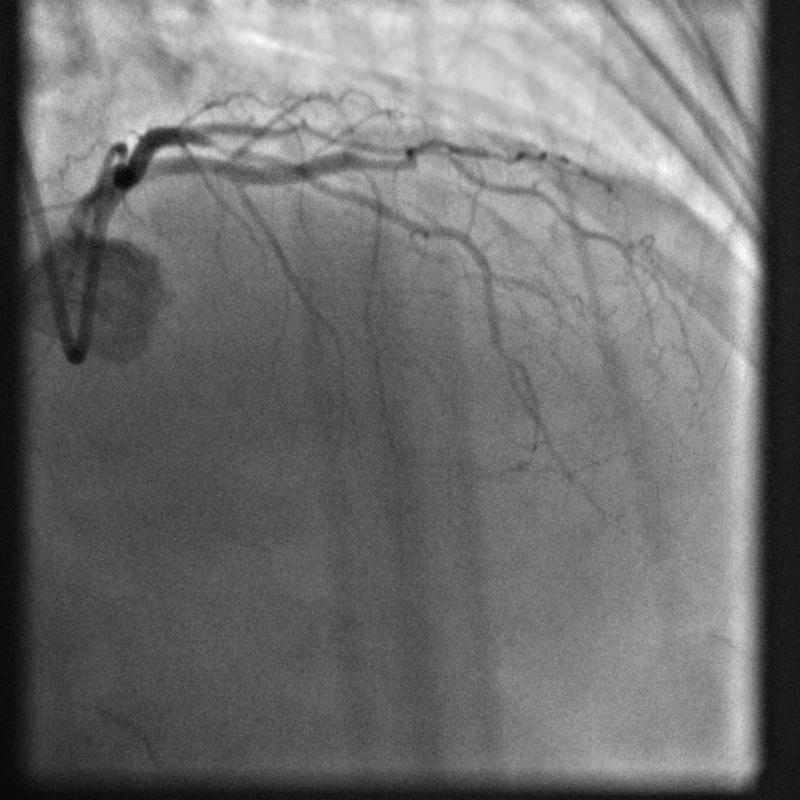Stenosis: (199, 135, 275, 171)
